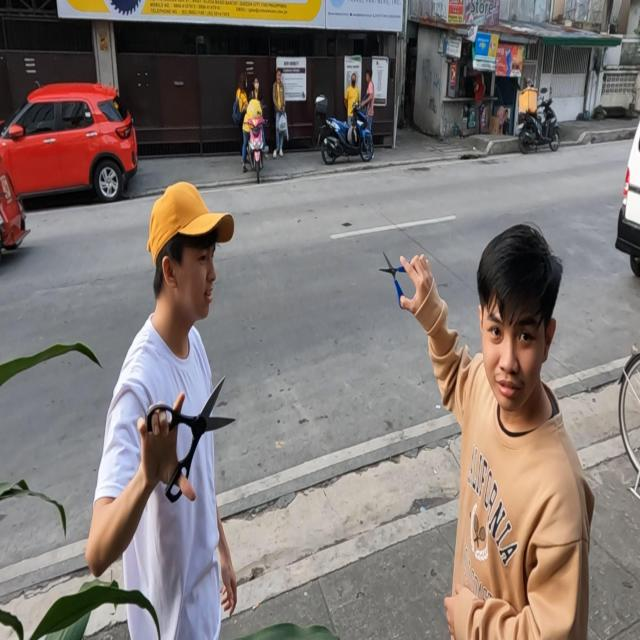scissor: (146, 376, 237, 503), (379, 251, 413, 310)
